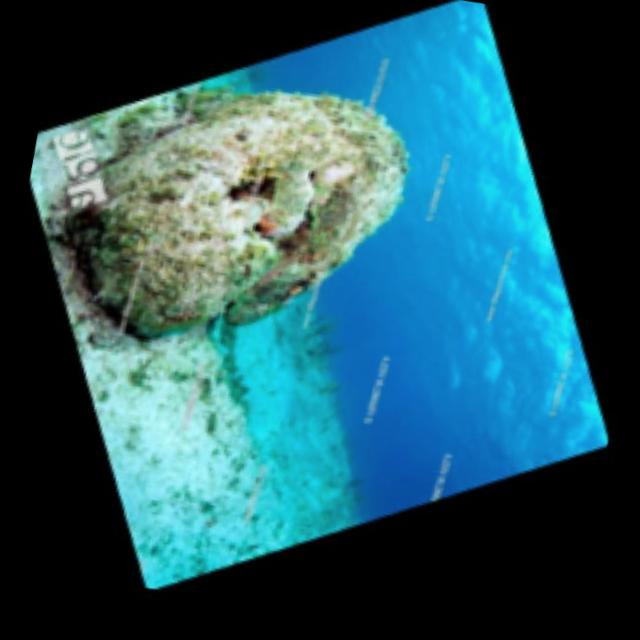Dead Coral: (57, 5, 497, 429)
